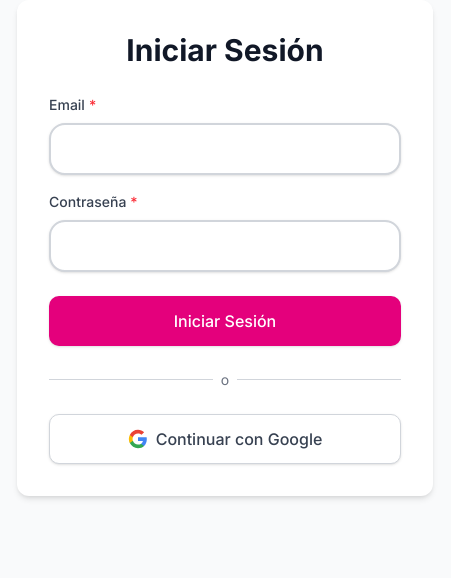
Test: LoginForm - Accessibility Tests › ARIA Labels and Roles › should associate error messages with inputs using aria-describedby
The image size is (451, 578).
Click the button "Iniciar Sesión" at [225, 320], box [49,296,401,346]
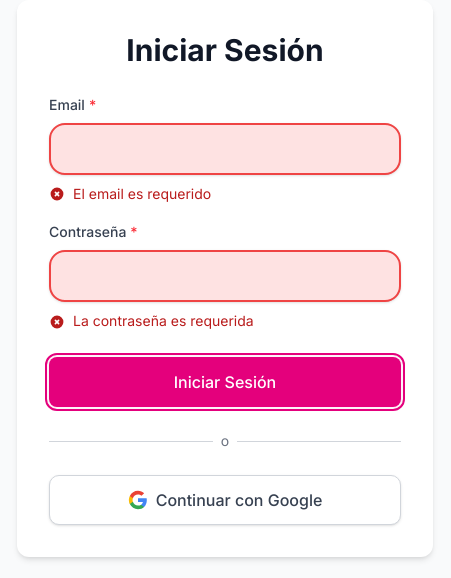
Now the message "El email es requerido" is shown, box [49,184,211,202]
Now the message "La contraseña es requerida" is shown, box [49,312,254,330]
